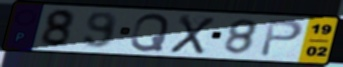8: (39, 8, 78, 49), (222, 17, 260, 56)
9: (82, 11, 118, 50)
P: (257, 18, 305, 58)
Q: (128, 12, 172, 53)
X: (167, 13, 218, 56)
